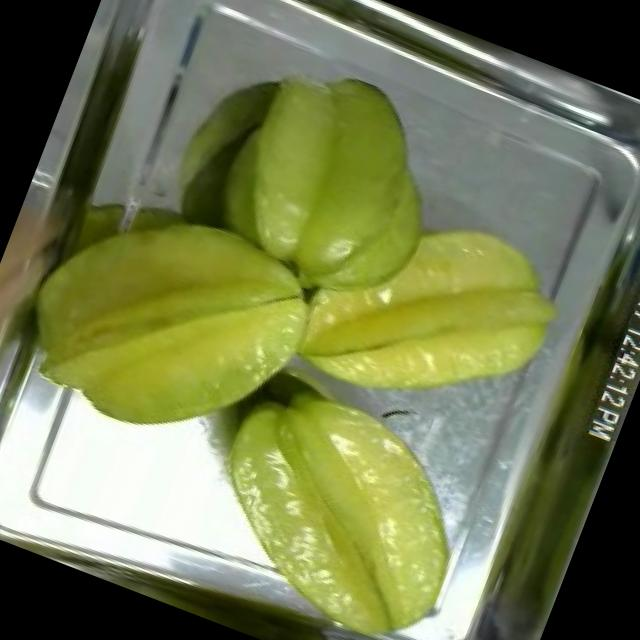fruit: (0, 156, 344, 488), (165, 348, 505, 640), (267, 162, 591, 462), (180, 32, 480, 340)
